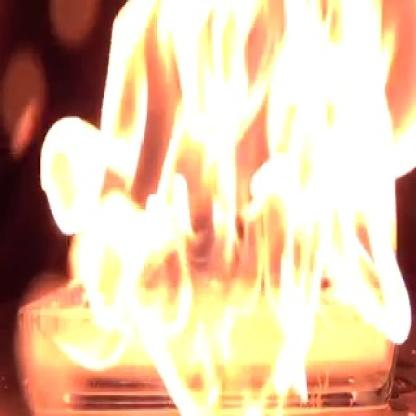fire: (28, 1, 416, 416)
